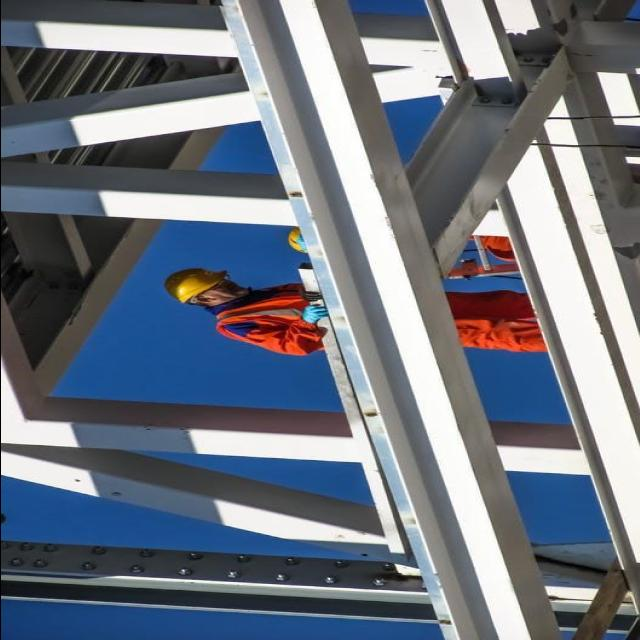helmet: (153, 264, 219, 304)
jacket: (210, 272, 326, 356)
